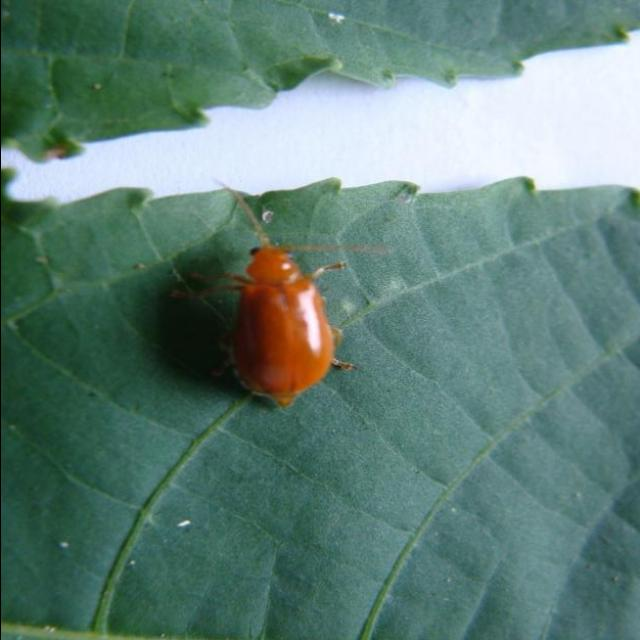Pumpkin Beetle: (151, 232, 367, 409)
